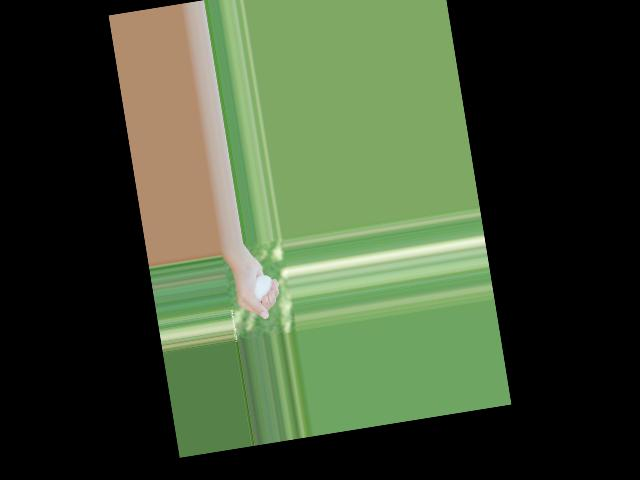egg: (251, 274, 275, 302)
